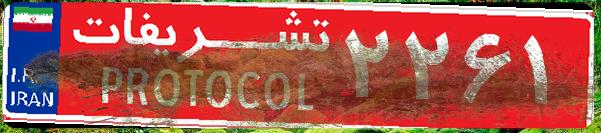1: (520, 20, 580, 115)
2: (340, 20, 400, 115), (400, 20, 460, 115)
6: (460, 20, 520, 115)
تشریفات: (60, 8, 340, 125)
